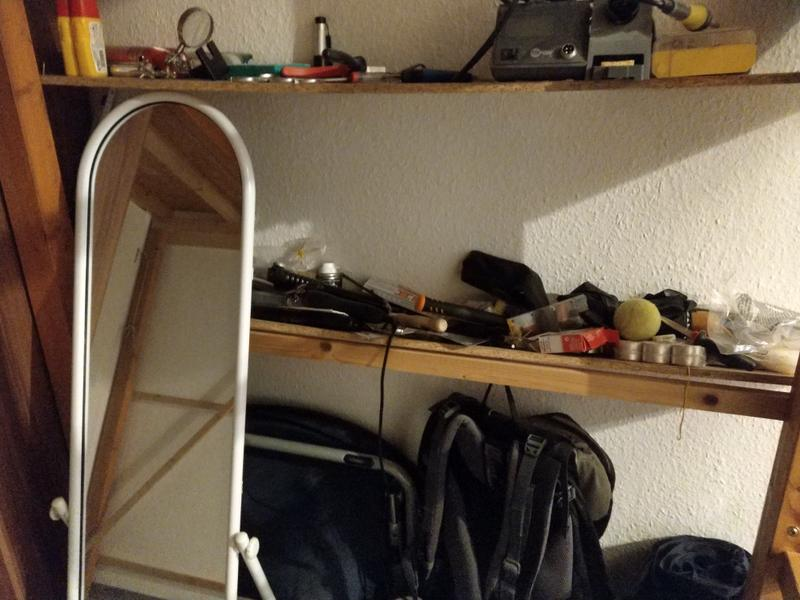Tennisball: (612, 294, 664, 341)
